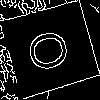O: (25, 24, 79, 76)
